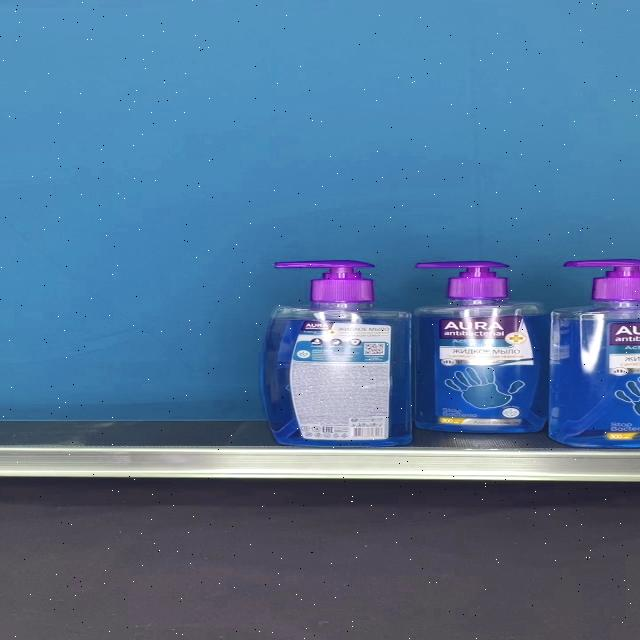Bottle: (259, 260, 414, 447), (414, 260, 552, 433)
Cap: (277, 260, 375, 304), (414, 260, 512, 300)
